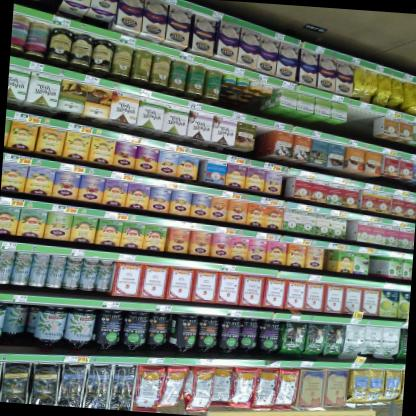empty_space: (343, 104, 384, 130)
